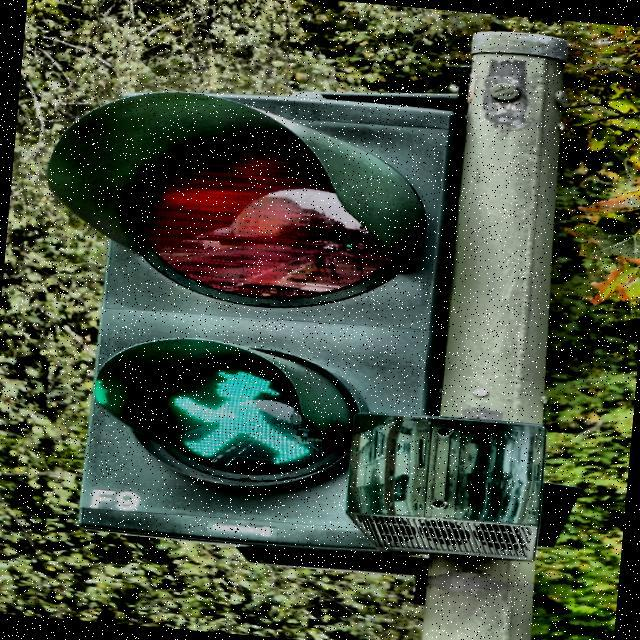green_light: (162, 359, 324, 470)
